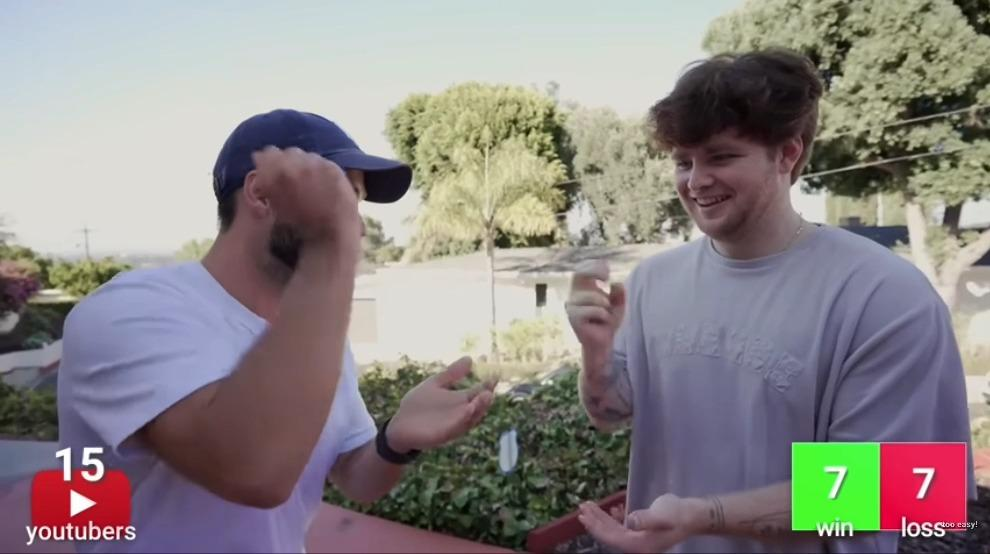Rock: (246, 144, 363, 249)
Scissors: (564, 259, 628, 355)
